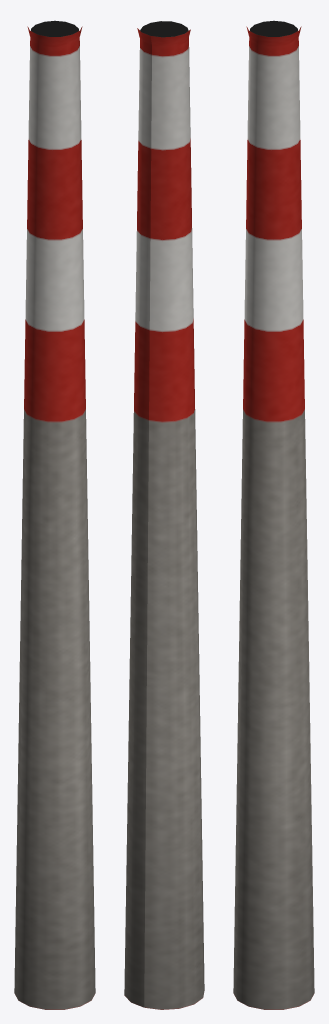
File: chimney.glb
3 renders of one model, left to right at view 1: azimuth 90°, elevation 25°; view 2: azimuth 150°, elevation 25°; view 3: azimuth 270°, elevation 25°, orthographic.
Parts seen in each view (by area): view 1: chimney; view 2: chimney; view 3: chimney.
Boxes of the visible parts, left/top/right/bottom form: chimney: left=14, top=20, right=95, bottom=1009; chimney: left=124, top=21, right=204, bottom=1009; chimney: left=233, top=20, right=314, bottom=1009.
Size of the model in its own units: 7.41 by 100 by 7.6.
2 materials, 1 textured.
